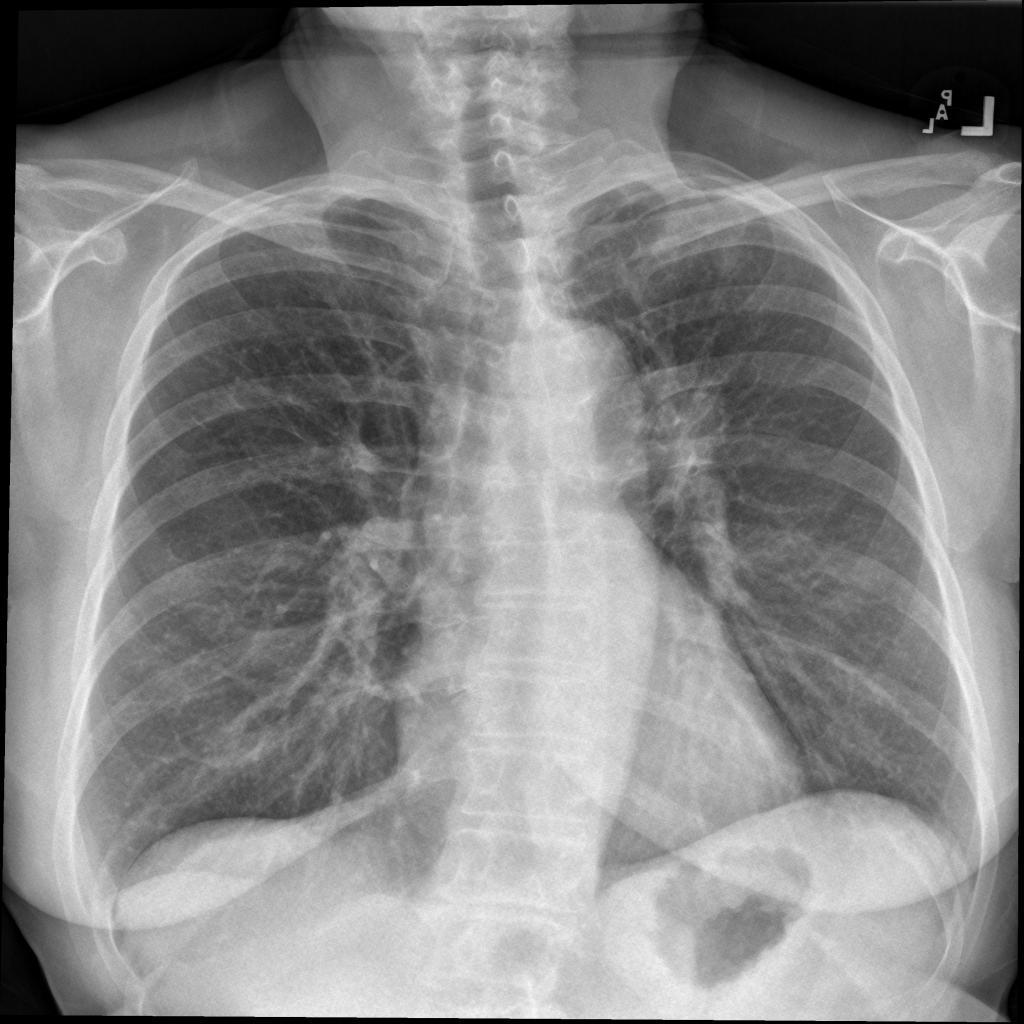Nodule: (280, 147, 298, 175)
